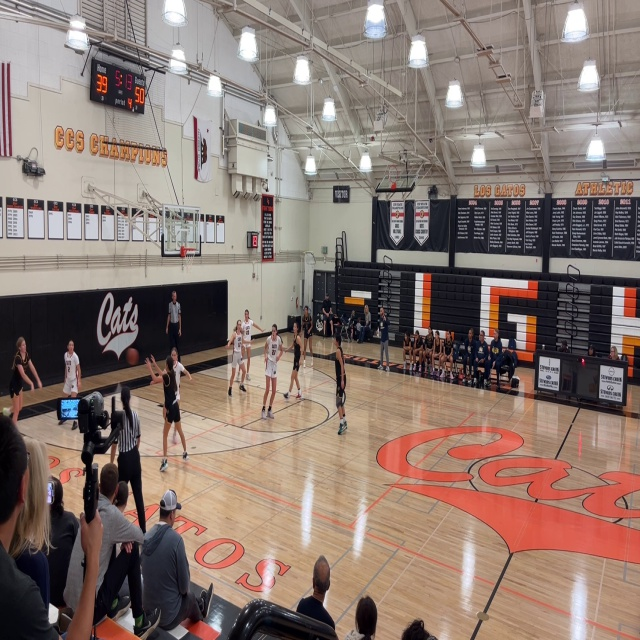Basketball: (126, 347, 139, 365)
